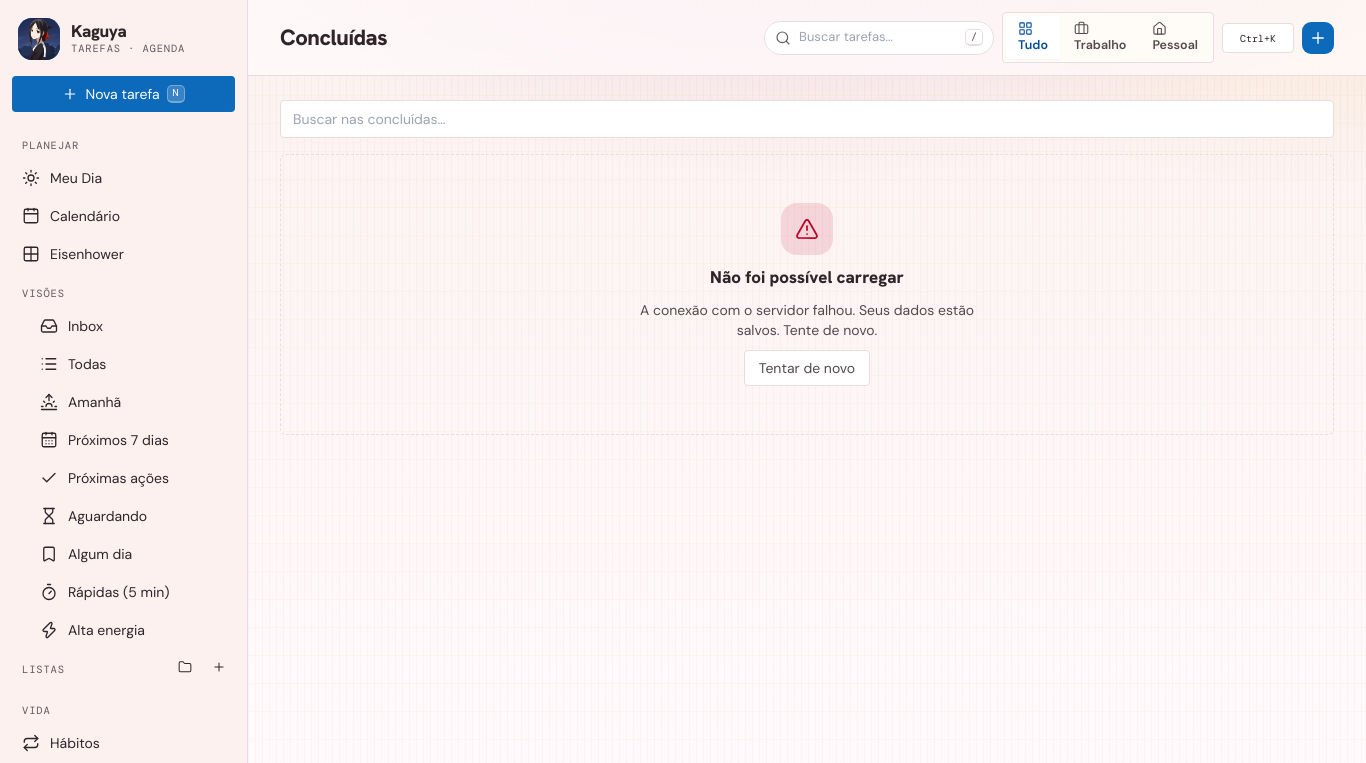
Concluídas › erro mostra "tentar de novo"
The width and height of the screenshot is (1366, 763).
What coordinates should you click on to do the following:
click the button "Tentar de novo"
I would click on:
 (807, 368)
Its box is [744,350,870,386].
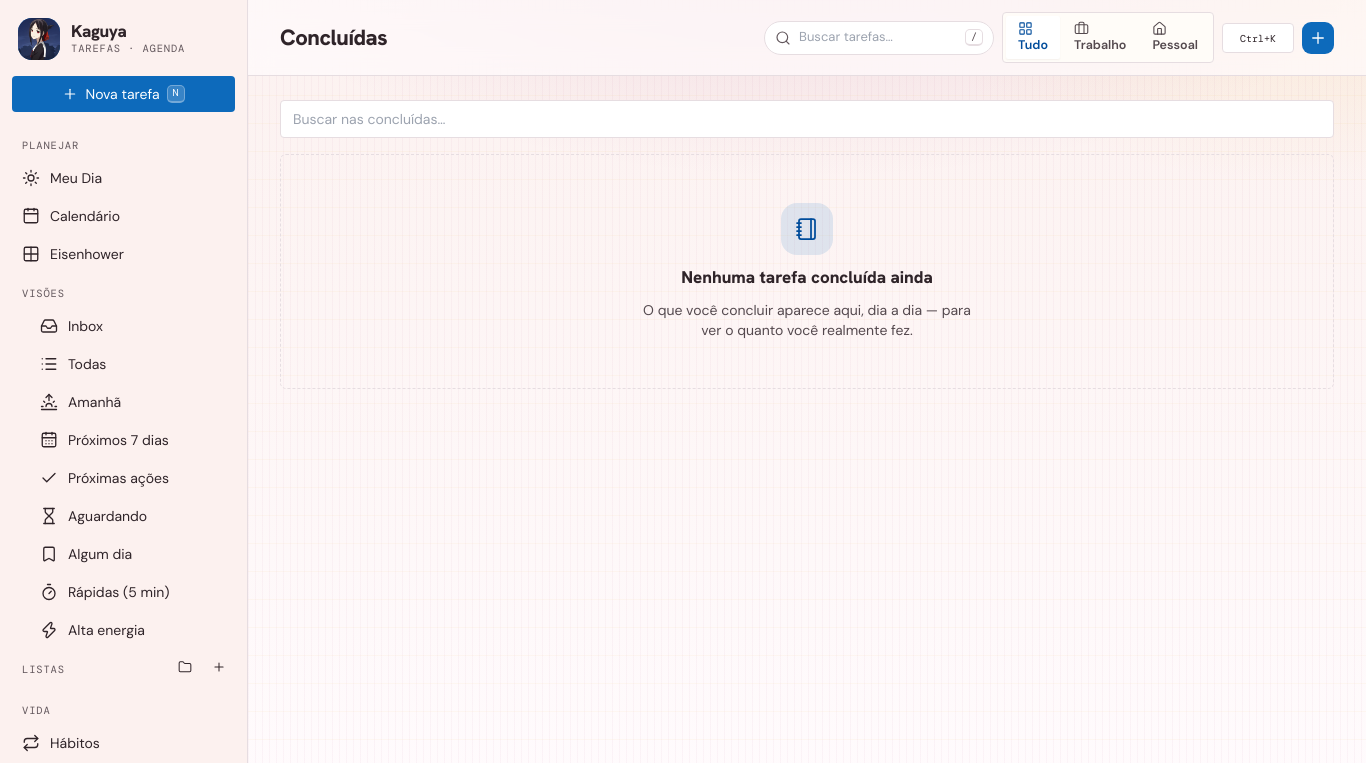
Check: the heading "Nenhuma tarefa concluída ainda" is shown, box [681,265,933,290]
